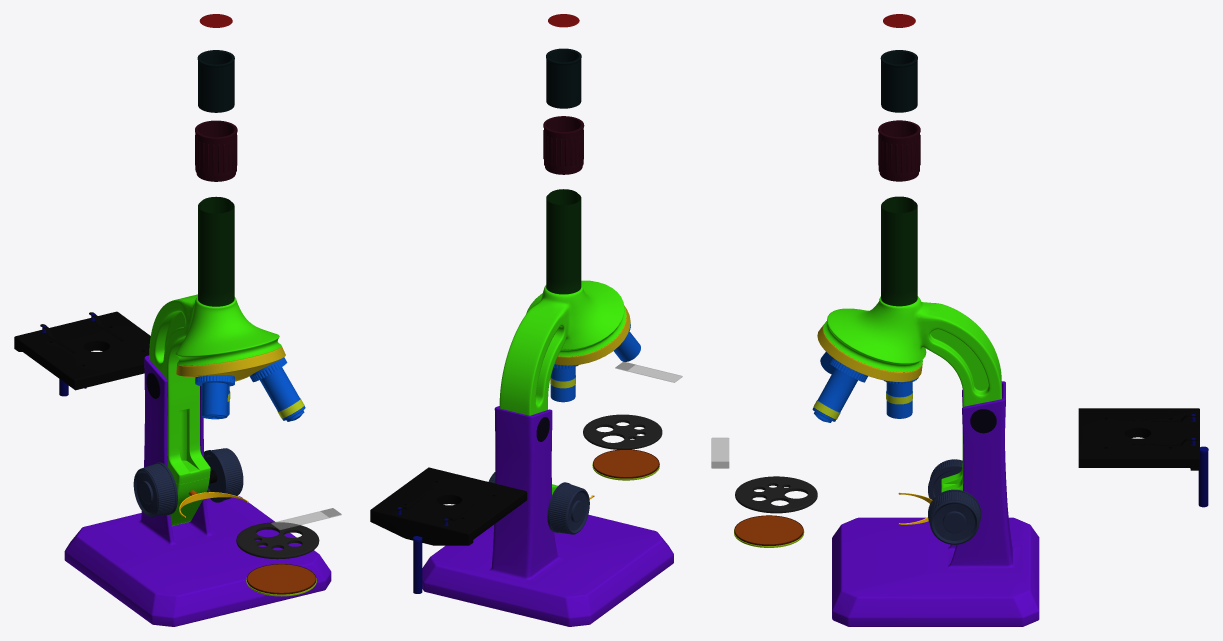
File: Microscope.FBX
3 renders of one model, left to right at view 1: azimuth 30°, elevation 25°; view 2: azimuth 150°, elevation 25°; view 3: azimuth 270°, elevation 25°, orthographic. The views are drawn at different scales.
Parts seen in each view (by area): view 1: C-Ext003, Cylinder065, Box009, Cylinder053, 008, Cylinder062, Cylinder066, 对象006, Cylinder054, 对象009, Box011; view 2: C-Ext003, Cylinder065, Box009, Cylinder062, Cylinder066, 对象006, Cylinder053, Cylinder054, 008, 对象009, Box011; view 3: C-Ext003, Cylinder065, Box009, Cylinder053, 008, Cylinder062, Cylinder066, 对象006, Cylinder054, 对象009.
Boxes of the visible parts, x1,y1,x2,y2 form: C-Ext003: (64, 355, 331, 626); Cylinder065: (149, 196, 281, 525); Box009: (14, 311, 150, 396); Cylinder053: (133, 448, 243, 516); 008: (195, 357, 305, 421); Cylinder062: (195, 120, 237, 181); Cylinder066: (236, 522, 319, 559); 对象006: (197, 50, 234, 112); Cylinder054: (246, 564, 316, 596); 对象009: (176, 346, 285, 381); Box011: (271, 511, 340, 529); C-Ext003: (422, 406, 673, 626); Cylinder065: (499, 189, 626, 494); Box009: (370, 467, 527, 593); Cylinder062: (543, 116, 584, 174); Cylinder066: (583, 414, 662, 449); 对象006: (546, 48, 581, 108); Cylinder053: (488, 472, 589, 534); Cylinder054: (592, 449, 659, 480); 008: (550, 323, 640, 402); 对象009: (554, 305, 630, 365); Box011: (615, 364, 682, 382); C-Ext003: (832, 381, 1039, 626); Cylinder065: (823, 196, 1001, 492); Box009: (1078, 408, 1208, 507); Cylinder053: (928, 459, 981, 544); 008: (812, 352, 918, 422); Cylinder062: (878, 120, 920, 181); Cylinder066: (735, 476, 817, 513); 对象006: (880, 50, 917, 112); Cylinder054: (734, 515, 804, 547); 对象009: (817, 324, 922, 382).
Size of the model in its own units: 200 by 604 by 479.
